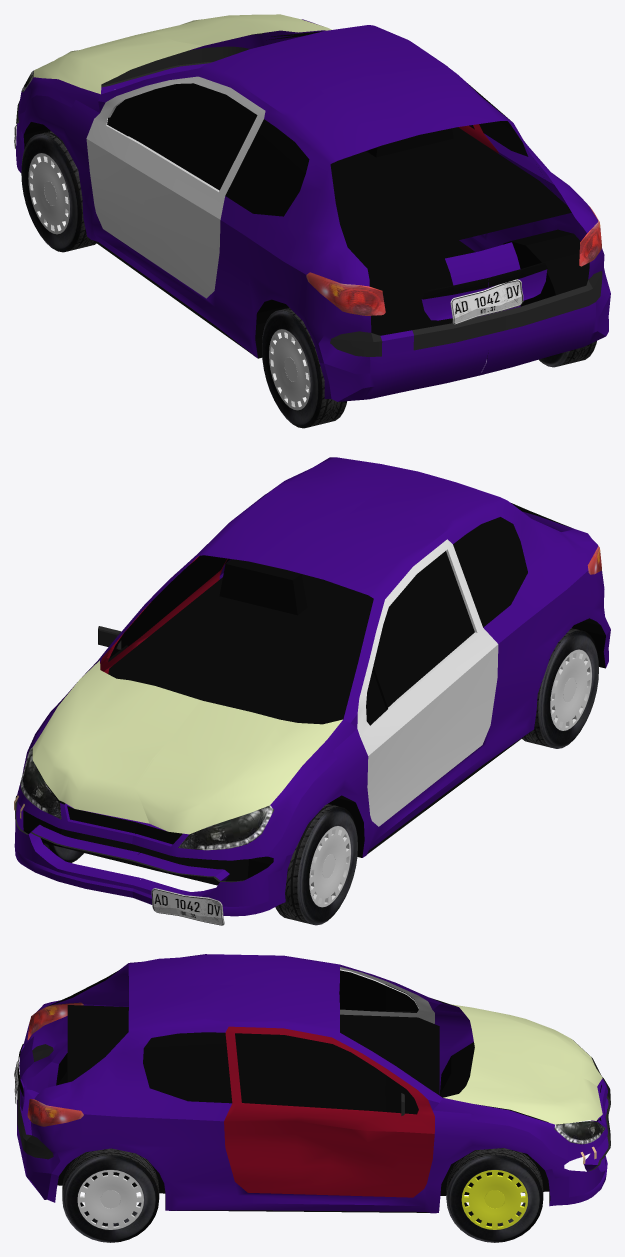
File: peugeot_206.glb
3 views of the same model, one above another, from view 1: azimuth 30°, elevation 25°; view 2: azimuth 150°, elevation 25°; view 3: azimuth 270°, elevation 25° (orthographic). The views are drawn at different scales.
Visible parts, largest first — view 1: Cube, Plane, Cube.022, Cube.018, Cube.009, Cube.023, Cube.005, Cube.011, Plane.007, Plane.010, Cube.014, Plane.011 (+8 smaller); view 2: Cube, Cube.023, Plane, Cube.022, Cube.009, Cube.005, Cube.018, Plane.010, Cube.010, Plane.007, Plane.011, Plane.008 (+4 smaller); view 3: Cube, Cube.007, Cube.023, Cube.009, Plane, Cube.005, Plane.001, Plane.004, Cube.018, Plane.002, Plane.005, Cube.014 (+5 smaller).
Boxes of the visible parts, left/top/right/bottom form: Cube: left=16, top=19, right=610, bottom=401; Plane: left=330, top=127, right=571, bottom=263; Cube.022: left=86, top=76, right=265, bottom=298; Cube.018: left=23, top=122, right=589, bottom=358; Cube.009: left=129, top=83, right=474, bottom=190; Cube.023: left=33, top=14, right=331, bottom=94; Cube.005: left=225, top=83, right=528, bottom=216; Cube.011: left=330, top=271, right=602, bottom=356; Plane.007: left=262, top=307, right=346, bottom=428; Plane.010: left=21, top=131, right=96, bottom=252; Cube.014: left=306, top=206, right=601, bottom=315; Plane.011: left=28, top=153, right=69, bottom=234; Cube: left=14, top=457, right=610, bottom=916; Cube.023: left=32, top=660, right=342, bottom=834; Plane: left=108, top=559, right=373, bottom=724; Cube.022: left=357, top=539, right=498, bottom=826; Cube.009: left=129, top=551, right=474, bottom=707; Cube.005: left=225, top=517, right=527, bottom=627; Cube.018: left=23, top=618, right=605, bottom=885; Plane.010: left=275, top=804, right=357, bottom=925; Cube.010: left=20, top=747, right=273, bottom=850; Plane.007: left=522, top=628, right=598, bottom=748; Plane.011: left=309, top=826, right=350, bottom=907; Plane.008: left=550, top=649, right=591, bottom=730; Cube: left=17, top=954, right=608, bottom=1213; Cube.007: left=224, top=1026, right=434, bottom=1197; Cube.023: left=443, top=1004, right=602, bottom=1124; Cube.009: left=235, top=970, right=385, bottom=1111; Plane: left=67, top=1005, right=439, bottom=1095; Cube.005: left=143, top=1032, right=232, bottom=1103; Plane.001: left=446, top=1148, right=543, bottom=1242; Plane.004: left=62, top=1148, right=159, bottom=1242; Cube.018: left=56, top=1042, right=550, bottom=1212; Plane.002: left=461, top=1170, right=527, bottom=1229; Plane.005: left=77, top=1170, right=143, bottom=1229; Cube.014: left=27, top=1002, right=83, bottom=1126.
Size of the model in its own units: 44.5 by 37.2 by 98.31.
Materials: 15 (3 with a texture image).
